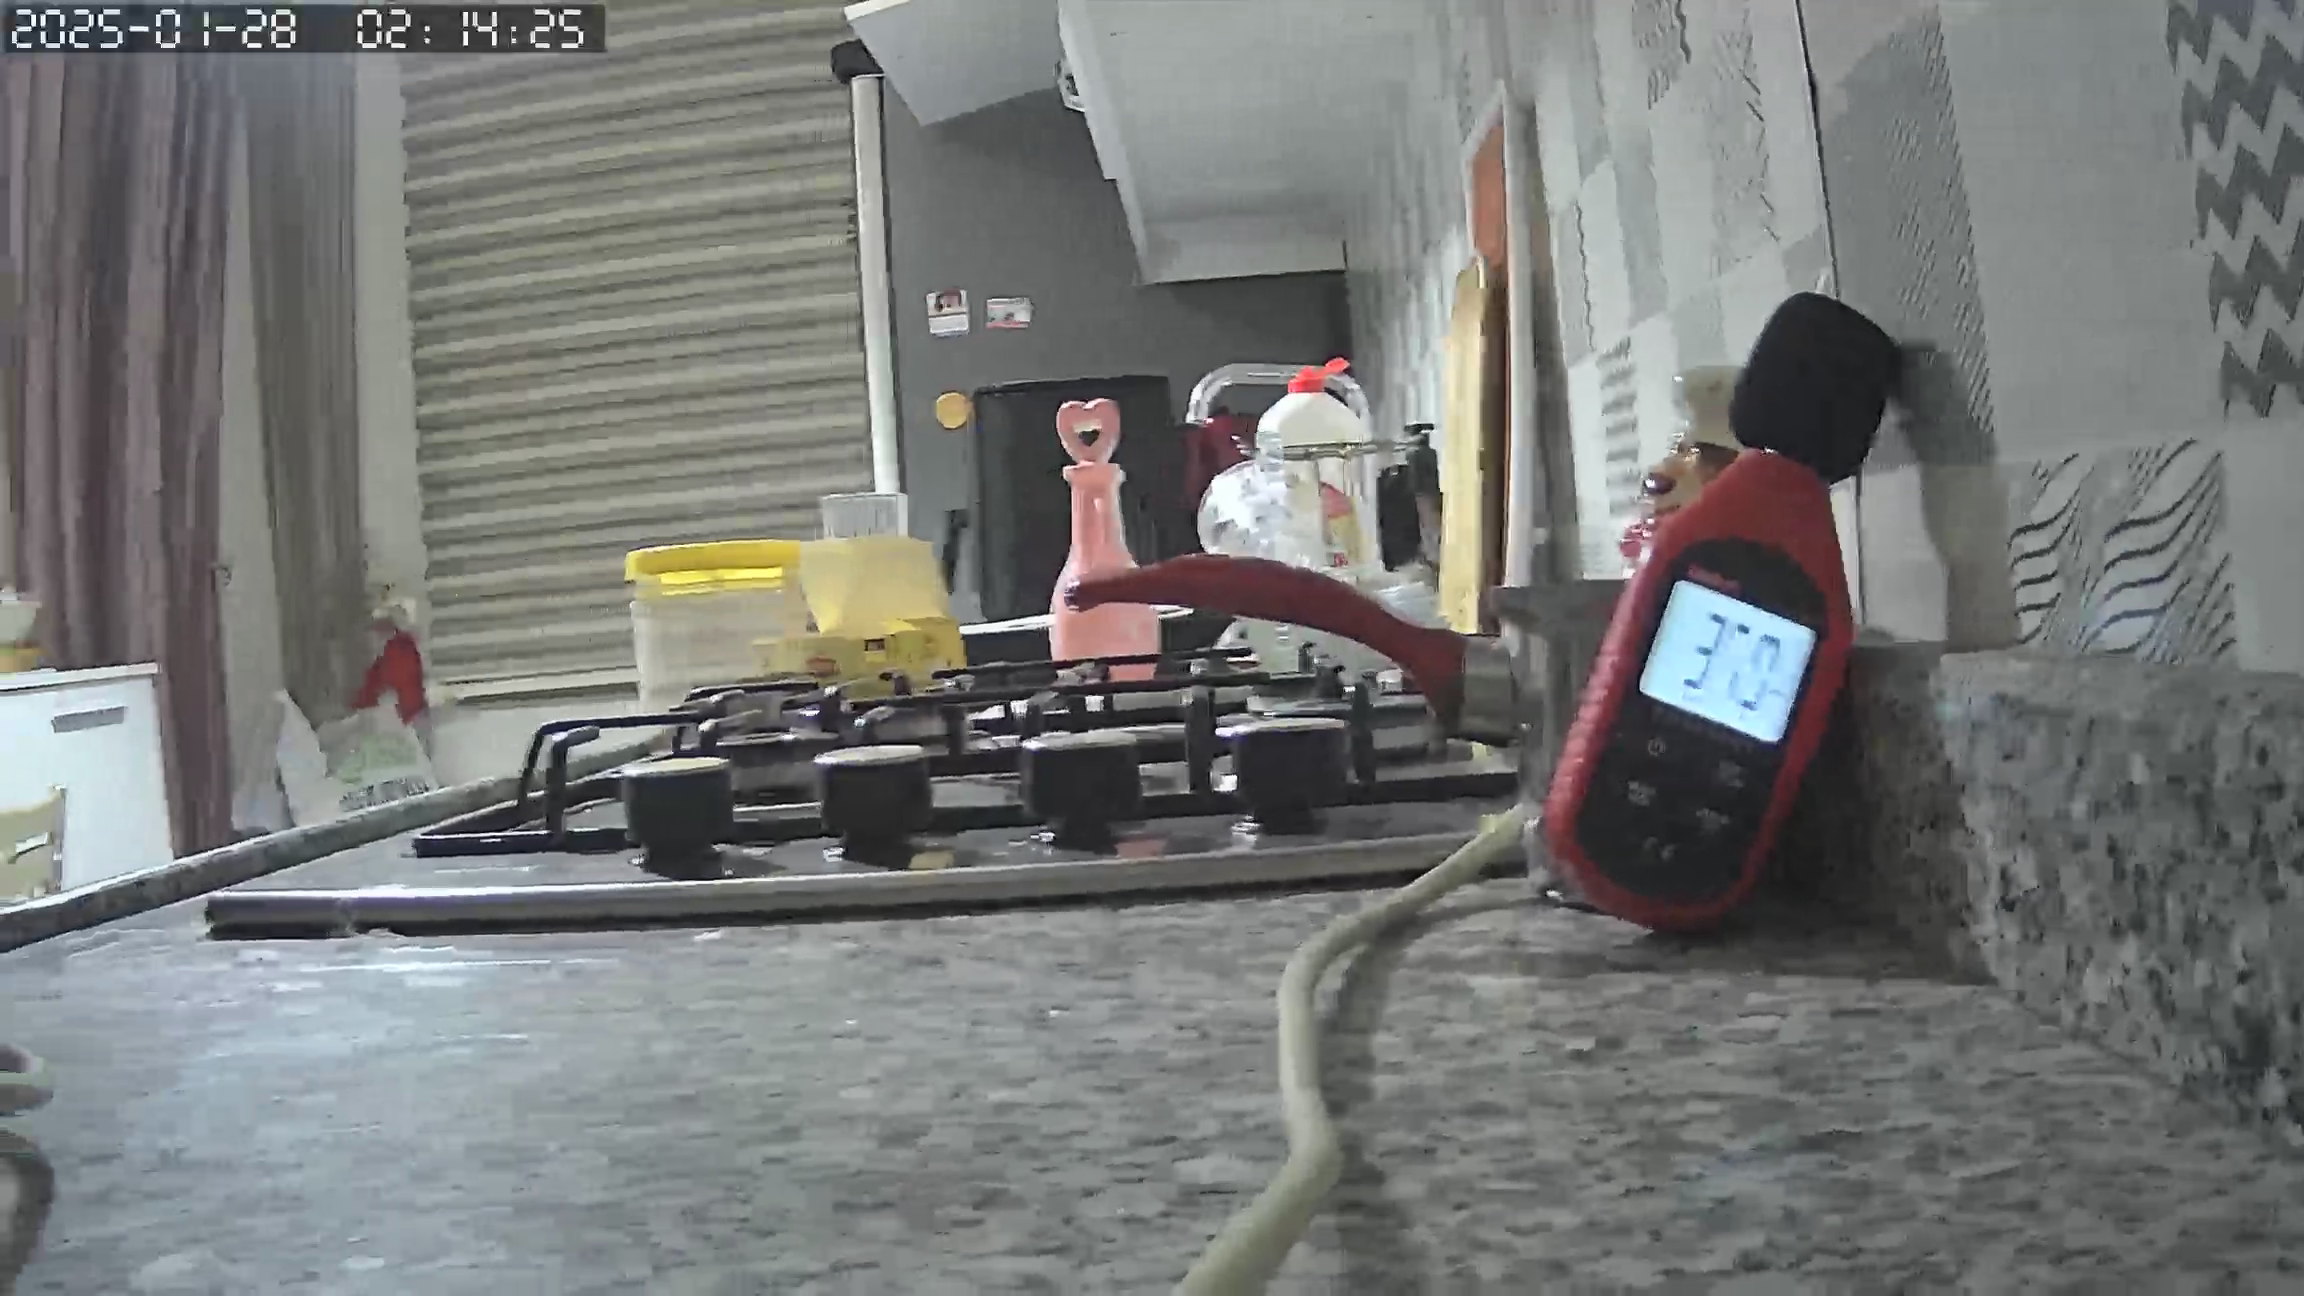screen: (1644, 582, 1817, 742)
